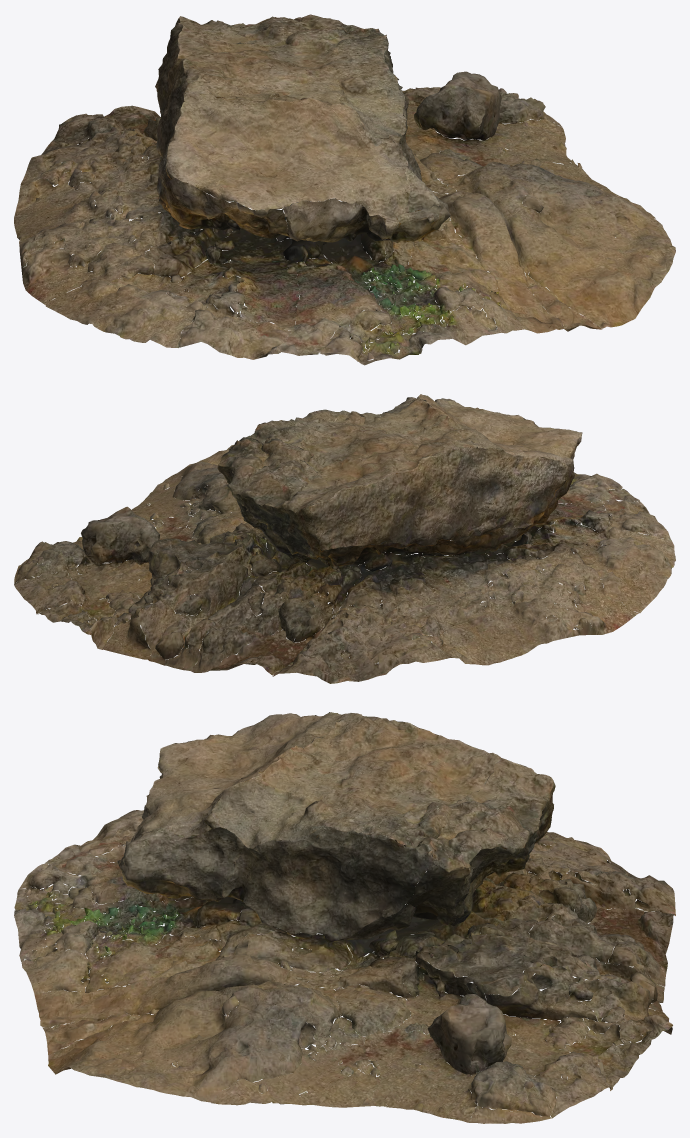
The model's file is coast_rocks_05.opt.glb.
3 renders of one model, top to bottom at view 1: azimuth 30°, elevation 25°; view 2: azimuth 150°, elevation 25°; view 3: azimuth 270°, elevation 25°, orthographic. The views are drawn at different scales.
Visible parts, largest first — view 1: coast_rocks_05; view 2: coast_rocks_05; view 3: coast_rocks_05.
Boxes of the visible parts, x1,y1,x2,y2 form: coast_rocks_05: (14,14,675,365); coast_rocks_05: (14,394,675,683); coast_rocks_05: (14,712,675,1123).
Bounding box in the file's own units: 4.04 × 1.33 × 3.75.
Materials: 1 (1 with a texture image).
